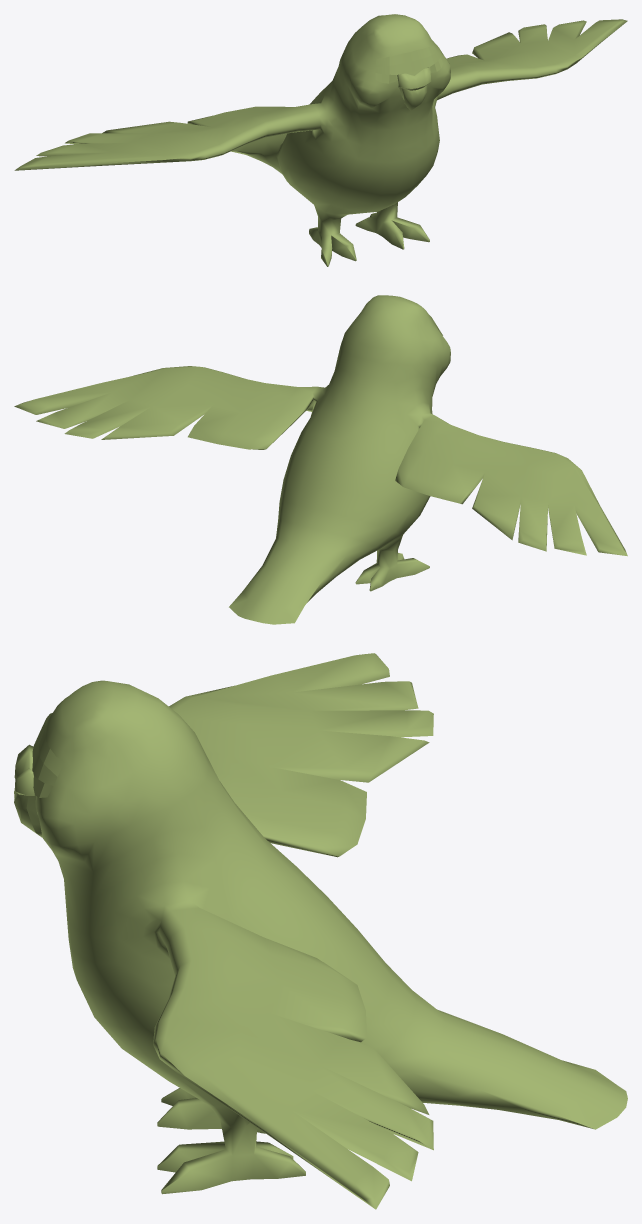
File: Paulie_v1.fbx
The picture shows the model from 3 angles, top to bottom: view 1: azimuth 30°, elevation 25°; view 2: azimuth 150°, elevation 25°; view 3: azimuth 270°, elevation 25°; orthographic projection. The views are drawn at different scales.
Visible parts, largest first — view 1: Paulie_body, Paulie_face; view 2: Paulie_body; view 3: Paulie_body, Paulie_face.
Boxes of the visible parts, bbox=[...] form: Paulie_body: bbox=[14, 14, 627, 266]; Paulie_face: bbox=[375, 45, 443, 83]; Paulie_body: bbox=[14, 295, 627, 624]; Paulie_body: bbox=[14, 653, 627, 1209]; Paulie_face: bbox=[32, 713, 64, 797].
Bounding box in the file's own units: 21.96 × 8.41 × 10.25.
